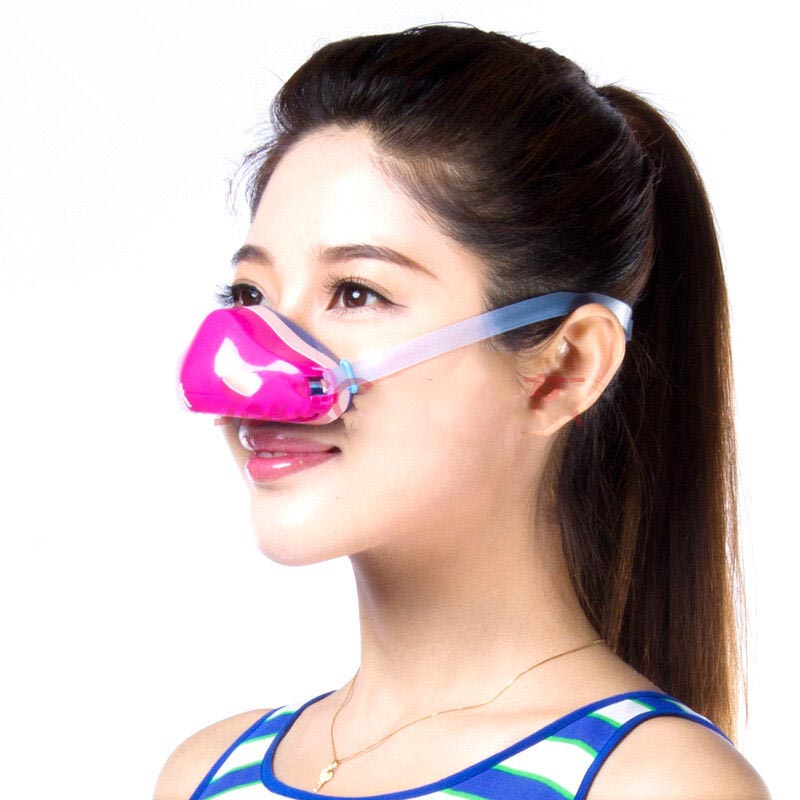face_mask: (203, 126, 503, 574)
